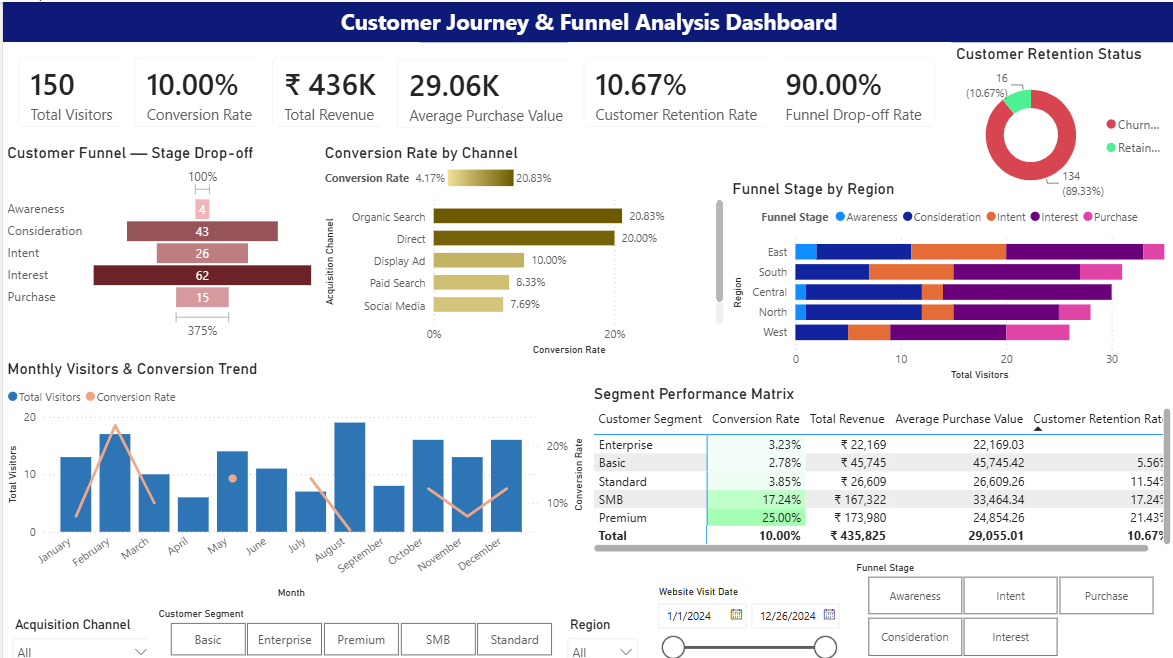

What the dashboard file says about the page in this screenshot:
{"tool":"powerbi","page":{"name":"Dashboard","canvas":[1280,720],"ordinal":0},"visuals":[{"type":"textbox","box":[0,0,1280.3,43.7],"z":0},{"type":"cardVisual","fields":{"Data":["CustomerJourneyData.Total Visitors"]},"box":[0,43.7,159.7,110.6],"z":1000},{"type":"cardVisual","fields":{"Data":["CustomerJourneyData.Conversion Rate"]},"box":[126.9,43.7,173.3,110.6],"z":2000},{"type":"cardVisual","fields":{"Data":["CustomerJourneyData.Total Revenue"]},"box":[277.1,43.7,177.4,110.6],"z":3000},{"type":"cardVisual","fields":{"Data":["CustomerJourneyData.Average Purchase Value"]},"box":[413.6,45,226.6,110.6],"z":4000},{"type":"cardVisual","fields":{"Data":["CustomerJourneyData.Funnel Drop-off Rate"]},"box":[824.4,43.7,211.6,110.6],"z":5000},{"type":"cardVisual","fields":{"Data":["CustomerJourneyData.Customer Retention Rate"]},"box":[616.9,43.7,236.1,110.6],"z":6000},{"type":"funnel","title":"Customer Funnel — Stage Drop-off","fields":{"Y":["CustomerJourneyData.Total Visitors"],"Category":["CustomerJourneyData.Funnel Stage"]},"box":[0,154.2,346.7,219.7],"z":7000},{"type":"clusteredBarChart","title":"Conversion Rate by Channel","fields":{"Y":["CustomerJourneyData.Conversion Rate"],"Category":["CustomerJourneyData.Acquisition Channel"]},"box":[346.7,154.2,445,236.1],"z":8000},{"type":"lineClusteredColumnComboChart","title":"Monthly Visitors & Conversion Trend","fields":{"Y":["CustomerJourneyData.Total Visitors"],"Category":["CustomerJourneyData.Website Visit Date.Variation.Date Hierarchy.Month"],"Y2":["CustomerJourneyData.Conversion Rate"]},"box":[0,390.4,640.1,266.2],"z":9000},{"type":"slicer","fields":{"Values":["CustomerJourneyData.Acquisition Channel"]},"box":[0,666.1,173.3,54.6],"z":10000},{"type":"slicer","fields":{"Values":["CustomerJourneyData.Customer Segment"]},"box":[157,656.5,466.8,64.2],"z":11000},{"type":"slicer","fields":{"Values":["CustomerJourneyData.Region"]},"box":[606,666.1,96.9,54.6],"z":12000},{"type":"slicer","fields":{"Values":["CustomerJourneyData.Website Visit Date"]},"box":[702.9,631.9,215.7,88.7],"z":13000},{"type":"slicer","fields":{"Values":["CustomerJourneyData.Funnel Stage"]},"box":[918.6,606,361.7,114.7],"z":14000},{"type":"pivotTable","title":"Segment Performance Matrix","fields":{"Rows":["CustomerJourneyData.Customer Segment"],"Values":["CustomerJourneyData.Conversion Rate","CustomerJourneyData.Total Revenue","CustomerJourneyData.Average Purchase Value","CustomerJourneyData.Customer Retention Rate"]},"box":[640.1,417.7,640.1,188.4],"z":15000},{"type":"barChart","title":"Funnel Stage by Region","fields":{"Category":["CustomerJourneyData.Region"],"Y":["CustomerJourneyData.Total Visitors"],"Series":["CustomerJourneyData.Funnel Stage"]},"box":[791.6,193.8,488.6,223.8],"z":16000},{"type":"donutChart","title":"Customer Retention Status","fields":{"Category":["CustomerJourneyData.Customer Retention Status"],"Y":["CustomerJourneyData.Total Visitors"]},"box":[1036,46.4,244.3,177.4],"z":17000}]}

Visuals, with their boxes in screenshot pixels (x1, y1, x2, y2), scaled from the page's 1280x720 canvas onto the 1173x658 screenshot:
textbox: pyautogui.locateOnScreen(0, 0, 1172, 40)
cardVisual - CustomerJourneyData.Total Visitors: pyautogui.locateOnScreen(0, 40, 146, 141)
cardVisual - CustomerJourneyData.Conversion Rate: pyautogui.locateOnScreen(116, 40, 275, 141)
cardVisual - CustomerJourneyData.Total Revenue: pyautogui.locateOnScreen(254, 40, 417, 141)
cardVisual - CustomerJourneyData.Average Purchase Value: pyautogui.locateOnScreen(379, 41, 587, 142)
cardVisual - CustomerJourneyData.Funnel Drop-off Rate: pyautogui.locateOnScreen(755, 40, 949, 141)
cardVisual - CustomerJourneyData.Customer Retention Rate: pyautogui.locateOnScreen(565, 40, 782, 141)
"Customer Funnel — Stage Drop-off" funnel: pyautogui.locateOnScreen(0, 141, 318, 342)
"Conversion Rate by Channel" clusteredBarChart: pyautogui.locateOnScreen(318, 141, 726, 357)
"Monthly Visitors & Conversion Trend" lineClusteredColumnComboChart: pyautogui.locateOnScreen(0, 357, 587, 600)
slicer - CustomerJourneyData.Acquisition Channel: pyautogui.locateOnScreen(0, 609, 159, 657)
slicer - CustomerJourneyData.Customer Segment: pyautogui.locateOnScreen(144, 600, 572, 657)
slicer - CustomerJourneyData.Region: pyautogui.locateOnScreen(555, 609, 644, 657)
slicer - CustomerJourneyData.Website Visit Date: pyautogui.locateOnScreen(644, 577, 842, 657)
slicer - CustomerJourneyData.Funnel Stage: pyautogui.locateOnScreen(842, 554, 1172, 657)
"Segment Performance Matrix" pivotTable: pyautogui.locateOnScreen(587, 382, 1172, 554)
"Funnel Stage by Region" barChart: pyautogui.locateOnScreen(725, 177, 1172, 382)
"Customer Retention Status" donutChart: pyautogui.locateOnScreen(949, 42, 1172, 205)
